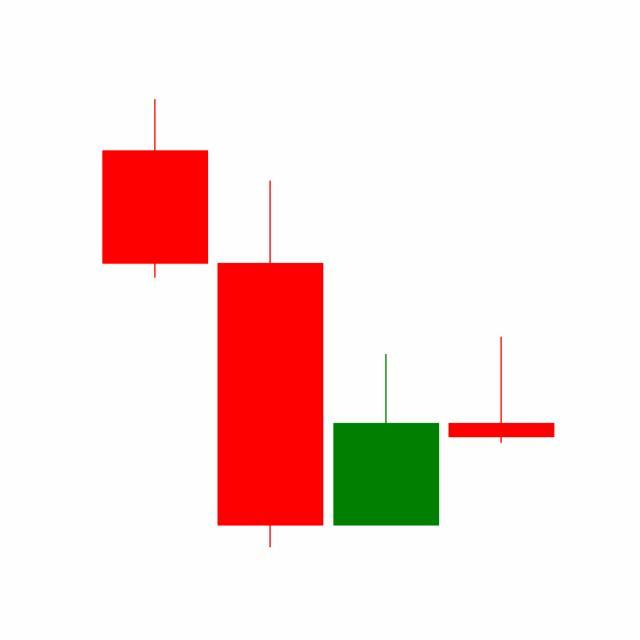Gravestone Doji: (444, 336, 560, 446)
